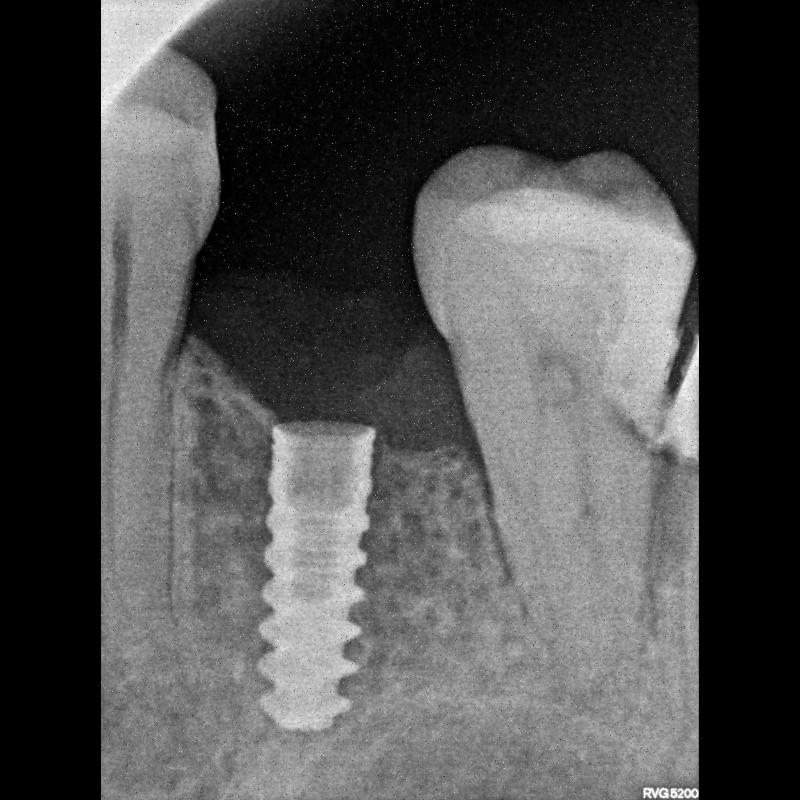ADIN: (222, 410, 382, 750)
